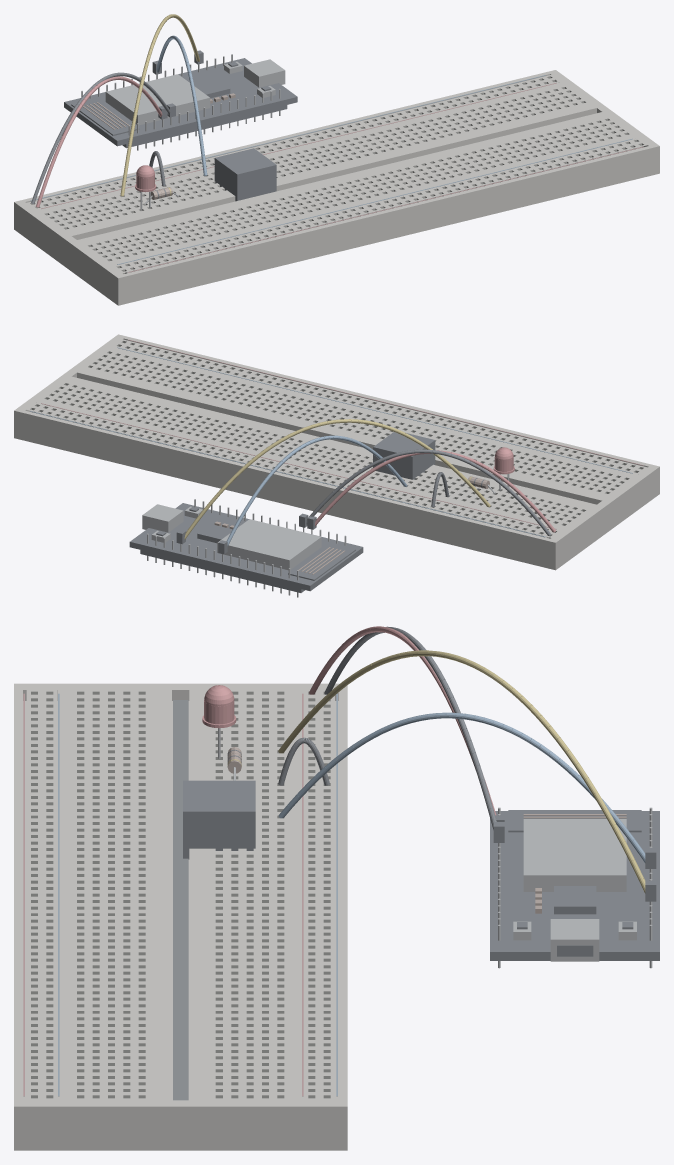
File: step-8.glb
The picture shows the model from 3 angles, top to bottom: view 1: azimuth 30°, elevation 25°; view 2: azimuth 150°, elevation 25°; view 3: azimuth 270°, elevation 25°; orthographic projection. The views are drawn at different scales.
Visible parts, largest first — view 1: breadboard_1__mesh, arduino_uno__mesh, buzzer_1__mesh, wire_led_sig__mesh, wire_main_gnd__mesh, wire_main_5v__mesh, wire_buzzer_sig__mesh, led_red__mesh; view 2: breadboard_1__mesh, arduino_uno__mesh, buzzer_1__mesh, wire_led_sig__mesh, wire_main_gnd__mesh, wire_main_5v__mesh, wire_buzzer_sig__mesh, led_red__mesh; view 3: breadboard_1__mesh, arduino_uno__mesh, buzzer_1__mesh, wire_led_sig__mesh, wire_buzzer_sig__mesh, wire_main_gnd__mesh, wire_main_5v__mesh, led_red__mesh.
Boxes of the visible parts, x1,y1,x2,y2 form: breadboard_1__mesh: [14, 70, 659, 305]; arduino_uno__mesh: [64, 54, 297, 150]; buzzer_1__mesh: [214, 148, 276, 201]; wire_led_sig__mesh: [120, 14, 203, 196]; wire_main_gnd__mesh: [31, 72, 175, 203]; wire_main_5v__mesh: [36, 76, 167, 207]; wire_buzzer_sig__mesh: [152, 35, 207, 175]; led_red__mesh: [135, 165, 156, 210]; breadboard_1__mesh: [14, 334, 659, 570]; arduino_uno__mesh: [129, 499, 363, 597]; buzzer_1__mesh: [373, 432, 435, 479]; wire_led_sig__mesh: [176, 419, 490, 544]; wire_main_gnd__mesh: [299, 449, 550, 535]; wire_main_5v__mesh: [307, 450, 555, 532]; wire_buzzer_sig__mesh: [218, 435, 407, 554]; led_red__mesh: [493, 447, 514, 492]; breadboard_1__mesh: [14, 683, 347, 1150]; arduino_uno__mesh: [490, 807, 659, 968]; buzzer_1__mesh: [183, 780, 255, 859]; wire_led_sig__mesh: [278, 650, 656, 901]; wire_buzzer_sig__mesh: [278, 712, 656, 868]; wire_main_gnd__mesh: [324, 626, 504, 842]; wire_main_5v__mesh: [309, 626, 504, 821]; led_red__mesh: [202, 685, 236, 758].
Bounding box in the file's own units: 0.165 × 0.0386 × 0.1065.
